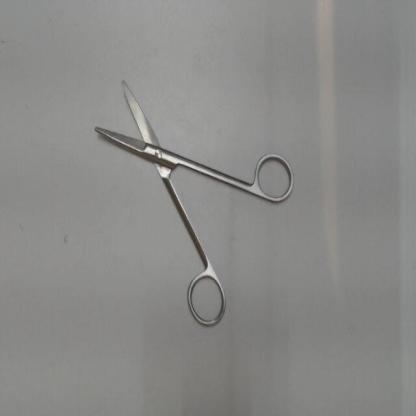Curved Mayo Scissors: (89, 70, 302, 334)
